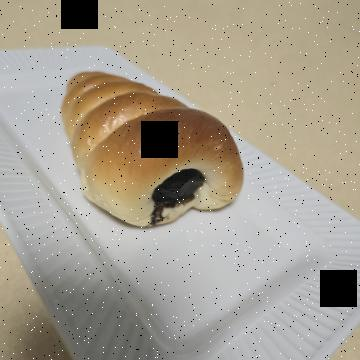cream horn: (57, 95, 251, 294)
